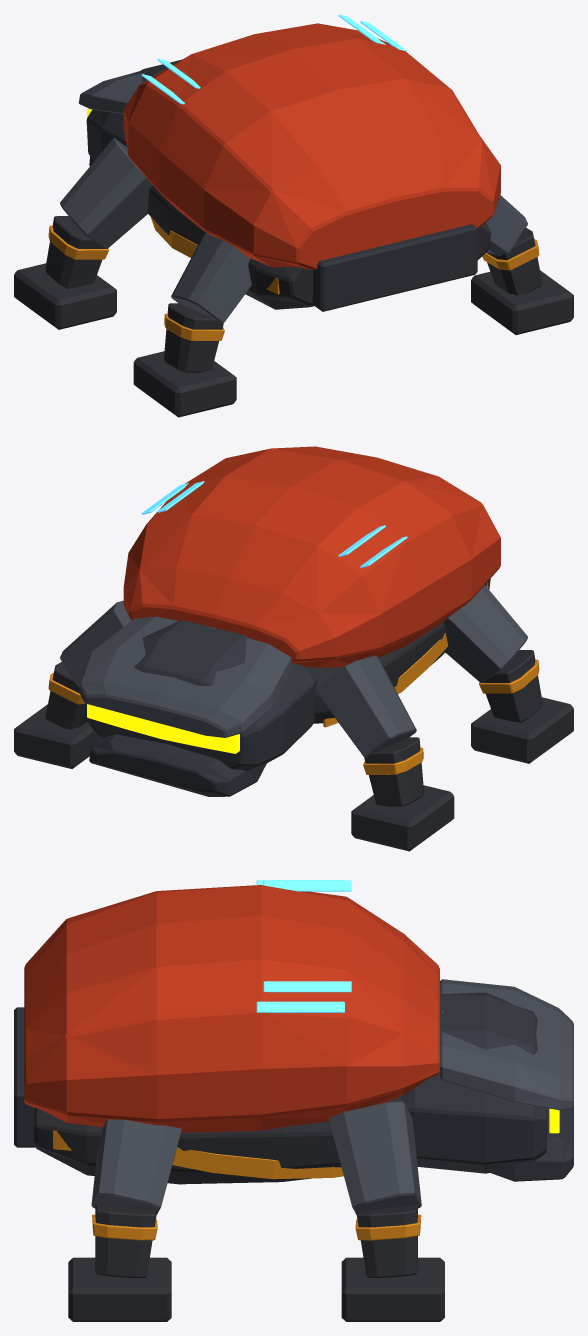
The model's file is codex_crawler.glb.
The picture shows the model from 3 angles, top to bottom: view 1: azimuth 30°, elevation 25°; view 2: azimuth 150°, elevation 25°; view 3: azimuth 270°, elevation 25°; orthographic projection. The views are drawn at different scales.
Parts seen in each view (by area): view 1: GEO-Carapace, GEO-Rear-Bumper, GEO-Leg-Front-L-Upper, GEO-Leg-Rear-L-Upper, GEO-Underbody, GEO-Leg-Rear-L-Foot, GEO-Leg-Front-L-Foot, GEO-Leg-Rear-R-Foot, GEO-Leg-Rear-L-Lower, GEO-Leg-Front-L-Lower, GEO-Leg-Rear-R-Lower, GEO-Brow (+6 smaller); view 2: GEO-Carapace, GEO-Brow, GEO-HeadCore, GEO-Leg-Front-L-Upper, GEO-Jaw, GEO-Leg-Rear-L-Upper, GEO-Leg-Front-L-Foot, GEO-Leg-Rear-L-Foot, GEO-Leg-Front-R-Foot, GEO-Leg-Front-L-Lower, GEO-Leg-Rear-L-Lower, GEO-Visor (+6 smaller); view 3: GEO-Carapace, GEO-HeadCore, GEO-Brow, GEO-Underbody, GEO-Leg-Front-R-Upper, GEO-Leg-Rear-R-Upper, GEO-Leg-Rear-R-Foot, GEO-Leg-Front-R-Foot, GEO-Leg-Rear-R-Lower, GEO-Leg-Front-R-Lower, GEO-Stripe-R, GEO-Jaw (+6 smaller).
Part boxes in pixels (x1=…): GEO-Carapace: x1=123, y1=23, x2=500, y2=269; GEO-Rear-Bumper: x1=312, y1=224, x2=477, y2=311; GEO-Leg-Front-L-Upper: x1=60, y1=138, x2=152, y2=248; GEO-Leg-Rear-L-Upper: x1=171, y1=231, x2=251, y2=323; GEO-Underbody: x1=148, y1=185, x2=490, y2=309; GEO-Leg-Rear-L-Foot: x1=133, y1=351, x2=236, y2=417; GEO-Leg-Front-L-Foot: x1=14, y1=263, x2=116, y2=329; GEO-Leg-Rear-R-Foot: x1=471, y1=270, x2=573, y2=334; GEO-Leg-Rear-L-Lower: x1=164, y1=303, x2=223, y2=372; GEO-Leg-Front-L-Lower: x1=45, y1=216, x2=104, y2=288; GEO-Leg-Rear-R-Lower: x1=486, y1=228, x2=542, y2=295; GEO-Brow: x1=79, y1=71, x2=144, y2=114; GEO-Carapace: x1=123, y1=446, x2=500, y2=667; GEO-Brow: x1=78, y1=616, x2=292, y2=737; GEO-HeadCore: x1=88, y1=620, x2=317, y2=770; GEO-Leg-Front-L-Upper: x1=315, y1=655, x2=416, y2=757; GEO-Jaw: x1=89, y1=734, x2=266, y2=796; GEO-Leg-Rear-L-Upper: x1=443, y1=585, x2=527, y2=682; GEO-Leg-Front-L-Foot: x1=351, y1=785, x2=454, y2=851; GEO-Leg-Rear-L-Foot: x1=471, y1=697, x2=573, y2=763; GEO-Leg-Front-R-Foot: x1=14, y1=704, x2=98, y2=768; GEO-Leg-Front-L-Lower: x1=364, y1=737, x2=423, y2=806; GEO-Leg-Rear-L-Lower: x1=483, y1=650, x2=542, y2=722; GEO-Visor: x1=87, y1=704, x2=239, y2=753; GEO-Carapace: x1=24, y1=885, x2=439, y2=1132; GEO-HeadCore: x1=401, y1=992, x2=546, y2=1173; GEO-Brow: x1=440, y1=979, x2=573, y2=1110; GEO-Underbody: x1=34, y1=1096, x2=401, y2=1184; GEO-Leg-Front-R-Upper: x1=329, y1=1101, x2=421, y2=1215; GEO-Leg-Rear-R-Upper: x1=91, y1=1119, x2=181, y2=1215; GEO-Leg-Rear-R-Foot: x1=68, y1=1257, x2=171, y2=1321; GEO-Leg-Front-R-Foot: x1=341, y1=1257, x2=444, y2=1321; GEO-Leg-Rear-R-Lower: x1=95, y1=1204, x2=156, y2=1278; GEO-Leg-Front-R-Lower: x1=357, y1=1204, x2=417, y2=1278; GEO-Stripe-R: x1=53, y1=1130, x2=343, y2=1179; GEO-Jaw: x1=485, y1=1107, x2=573, y2=1181.
Size of the model in its own units: 3.1 by 1.93 by 3.3.
